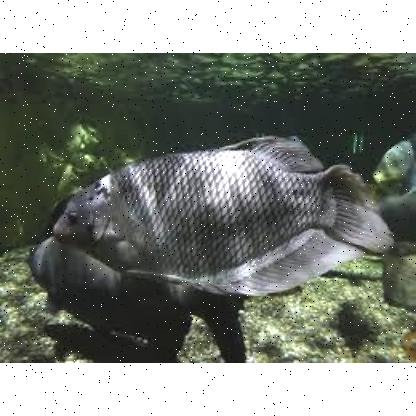gurame: (56, 136, 386, 294)
